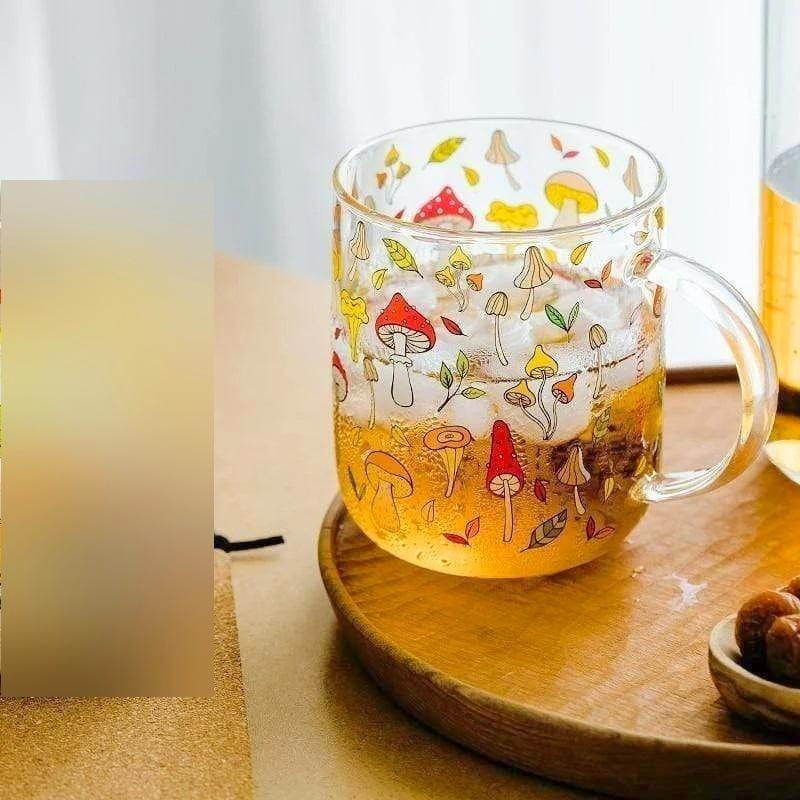glass-mug: (325, 108, 792, 582)
